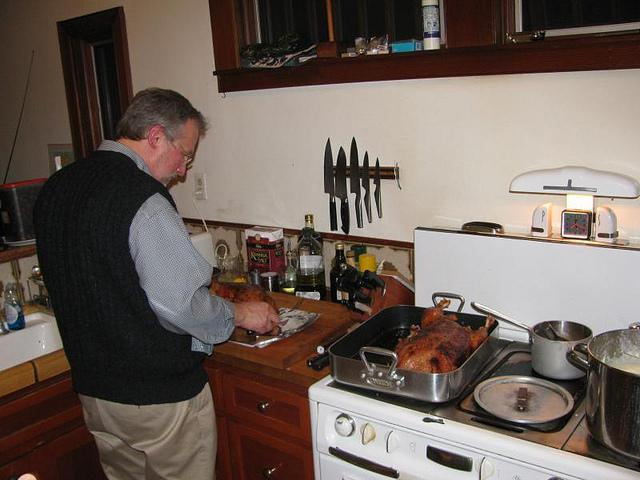Lavaplatos: (0, 279, 85, 374)
